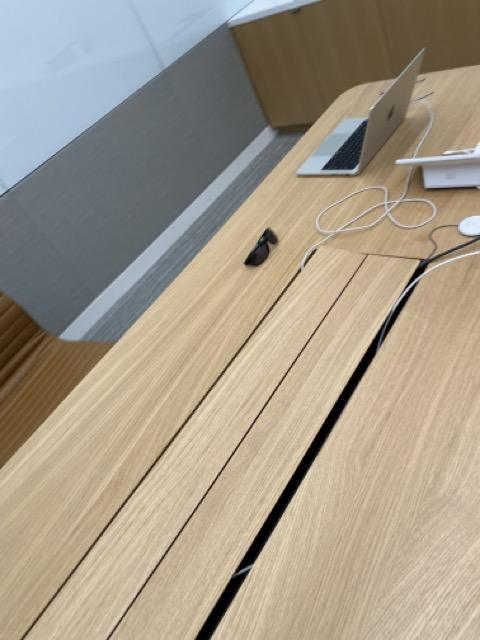Sunglasses: (245, 226, 280, 271)
